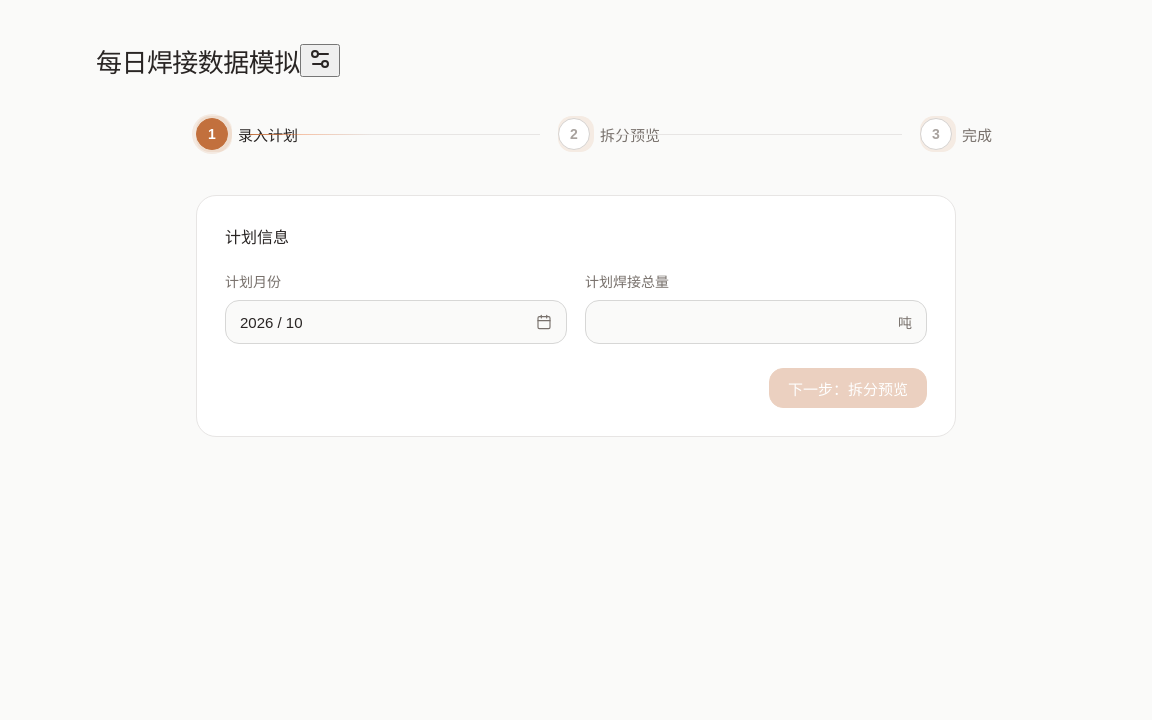
it: daily weld workflow › keeps the single business database binding inside the floating settings panel
Click the button named "焊接设置": (320, 60) left=300, top=44, right=340, bottom=77
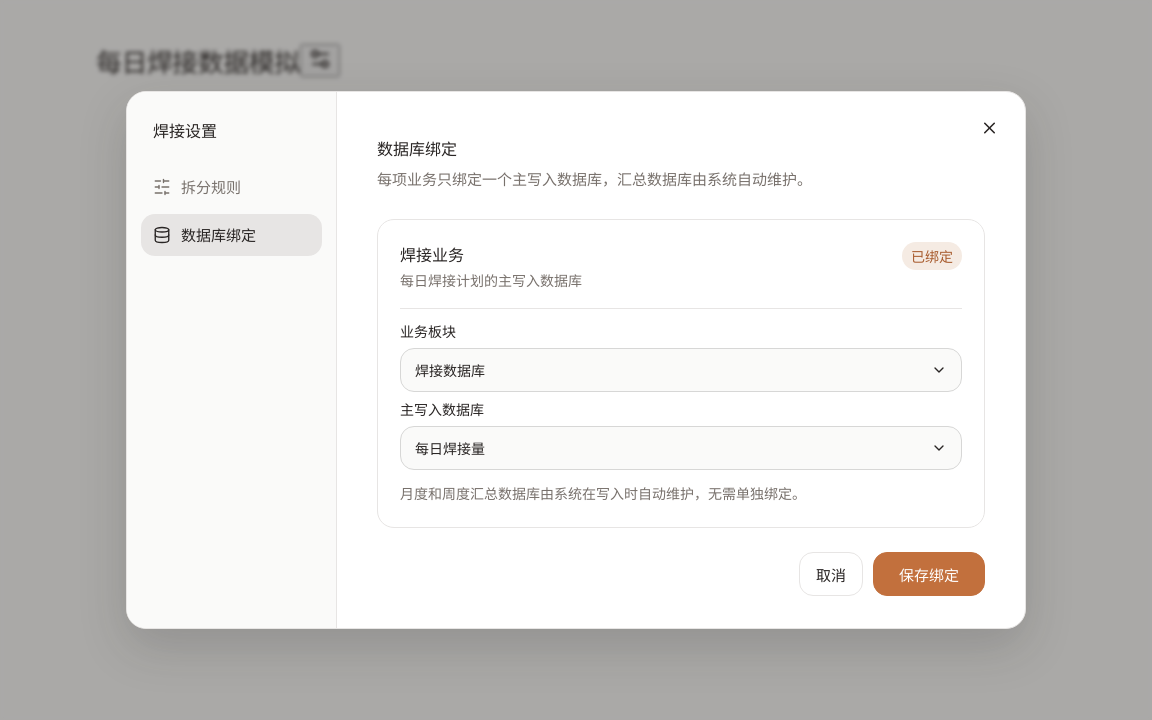
Result: the dialog with class "weld-settings-dialog" shows "焊接业务" at left=400, top=247, right=464, bottom=264
Result: the dialog with class "weld-settings-dialog" shows "业务板块" at left=400, top=324, right=456, bottom=340
Result: the dialog with class "weld-settings-dialog" shows "主写入数据库" at left=400, top=402, right=484, bottom=418
